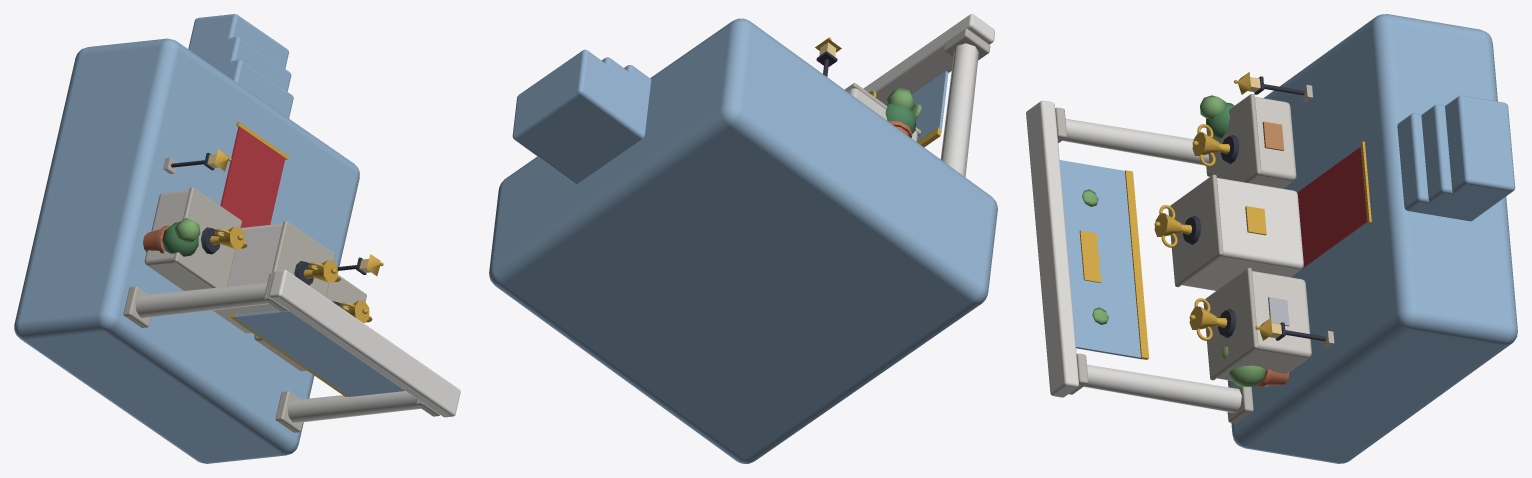
The model's file is station-awards.glb.
3 renders of one model, left to right at view 1: azimuth 30°, elevation 25°; view 2: azimuth 150°, elevation 25°; view 3: azimuth 270°, elevation 25°, orthographic. The views are drawn at different scales.
Parts seen in each view (by area): view 1: awards; view 2: awards; view 3: awards.
Boxes of the visible parts, box(x1,y1,x2,y2) form: awards: box(14, 14, 460, 463); awards: box(489, 14, 997, 463); awards: box(1026, 14, 1517, 463).
Bounding box in the file's own units: 3.32 × 3.38 × 3.44.
